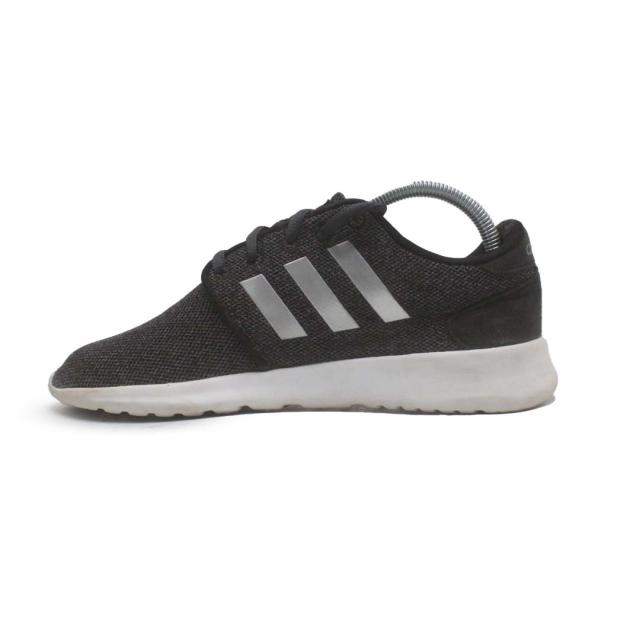heel: (493, 225, 546, 351)
midsole: (53, 338, 564, 416)
uppersole: (50, 195, 497, 390)
